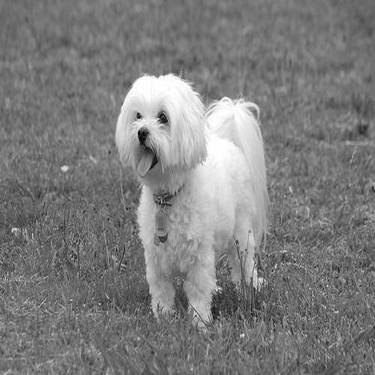dog: (99, 60, 277, 334)
